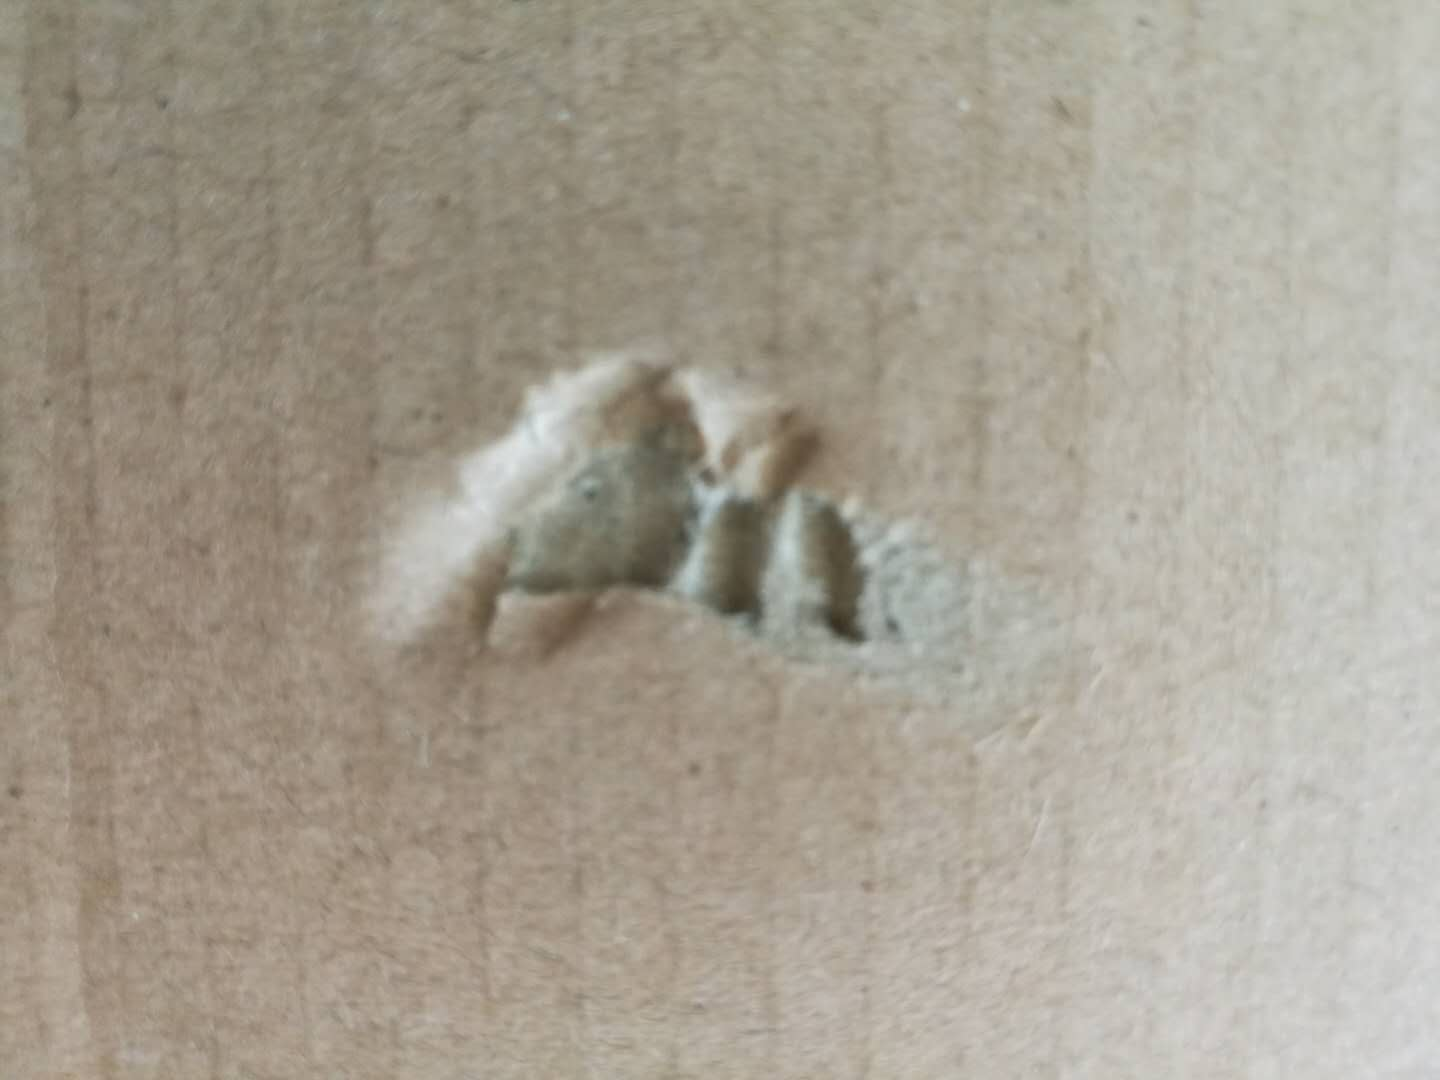defect: (321, 324, 1130, 754)
